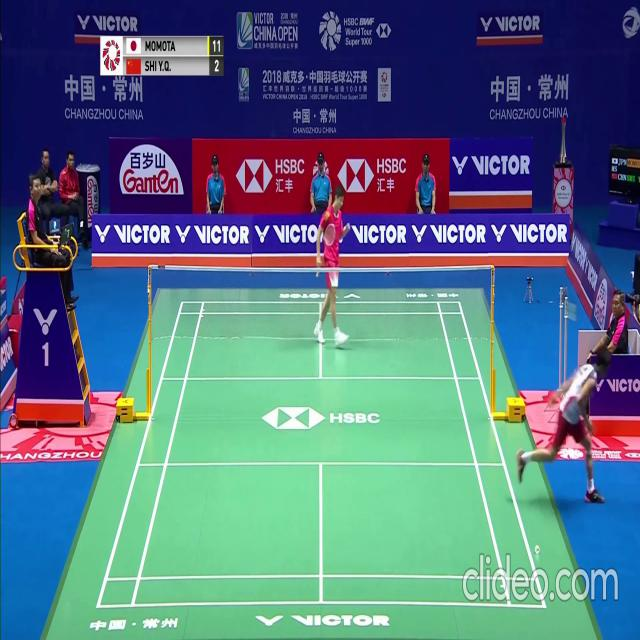Shuttlecock: (536, 544, 540, 552)
